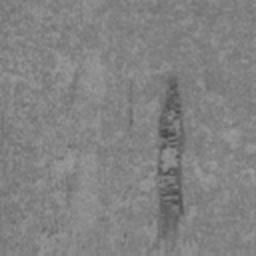Oxide scale of plate system: (145, 76, 189, 256)
